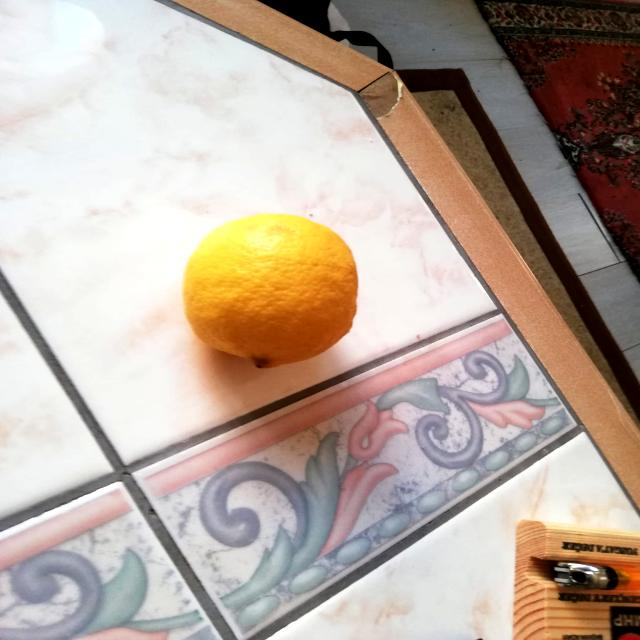lemon: (171, 198, 367, 376)
